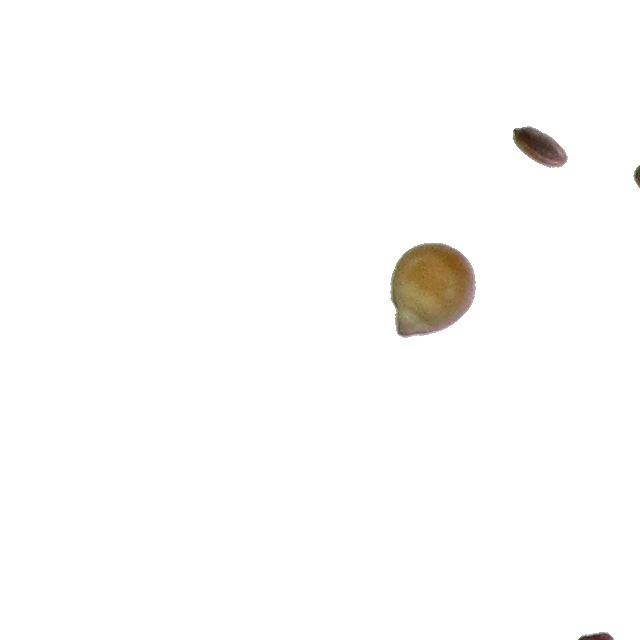buckwheat: (511, 125, 569, 169), (574, 631, 618, 640), (632, 162, 640, 203)
mais: (389, 242, 477, 339)
